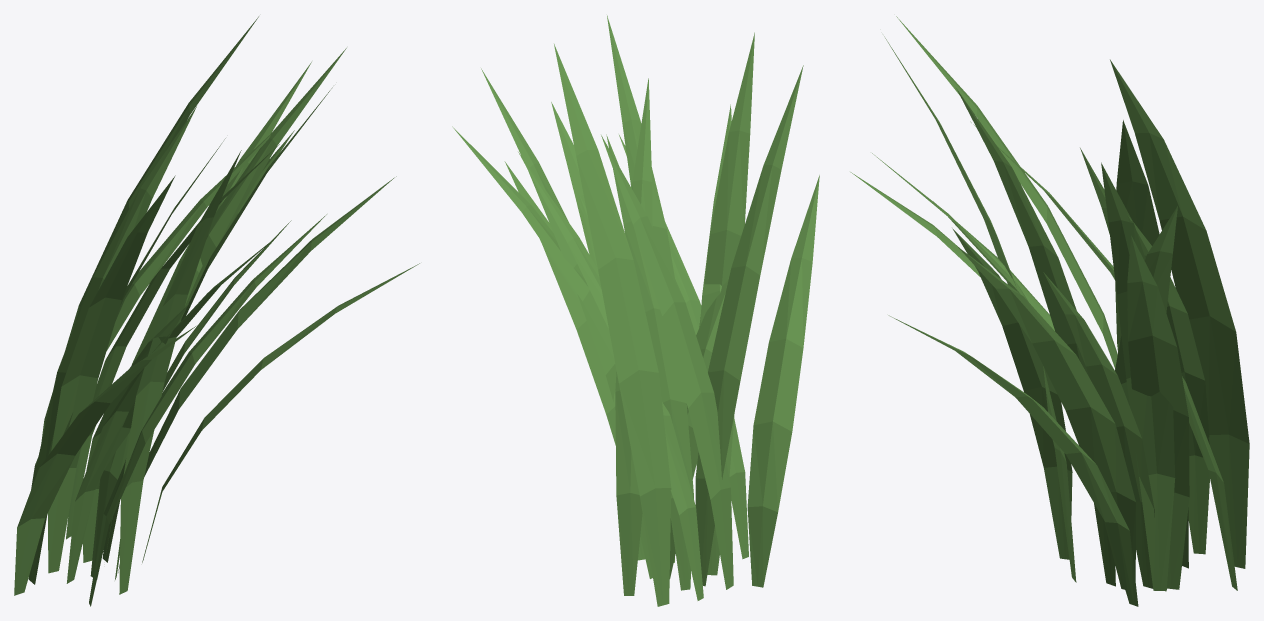
File: grass_tuft_f.glb
3 views of the same model, side by side, from view 1: azimuth 30°, elevation 25°; view 2: azimuth 150°, elevation 25°; view 3: azimuth 270°, elevation 25° (orthographic). The views are drawn at different scales.
Parts seen in each view (by area): view 1: grass_tuft_f; view 2: grass_tuft_f; view 3: grass_tuft_f.
Part boxes in pixels (box(x1,y1,x2,y2)): grass_tuft_f: box(14, 16, 419, 606); grass_tuft_f: box(452, 15, 819, 606); grass_tuft_f: box(850, 16, 1249, 606).
Bounding box in the file's own units: 0.22 × 0.34 × 0.2037.
